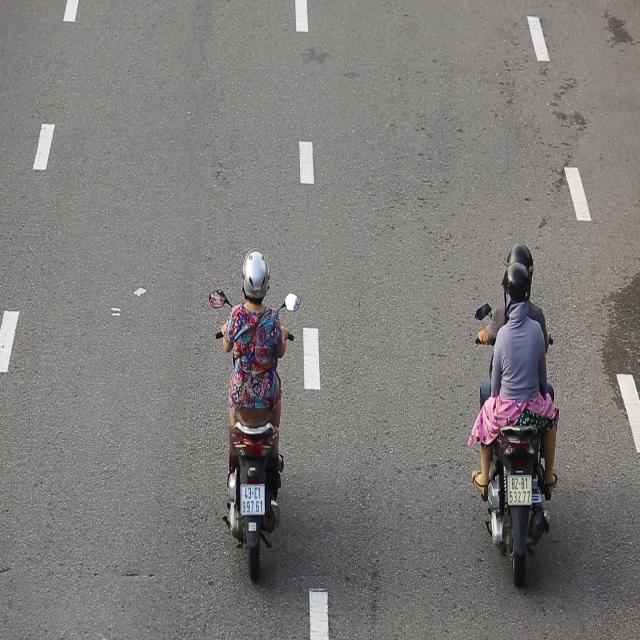motorbike: (466, 240, 562, 586), (205, 242, 298, 580)
